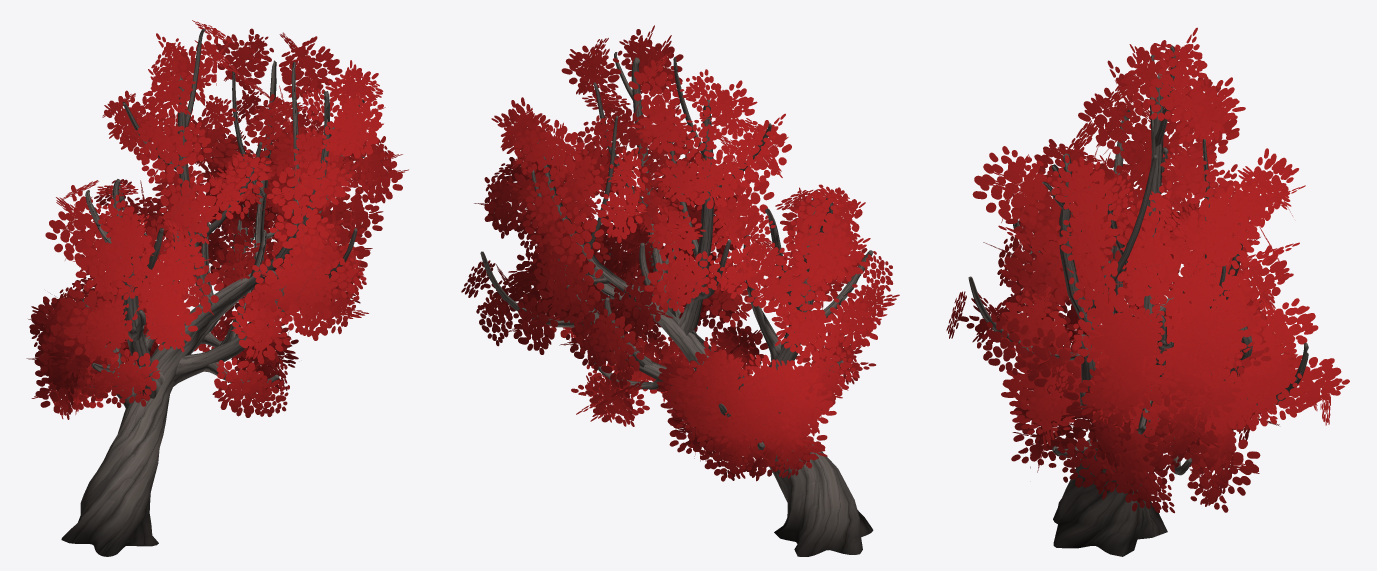
File: twistedtree_1_lod1.glb
The picture shows the model from 3 angles, left to right: view 1: azimuth 30°, elevation 25°; view 2: azimuth 150°, elevation 25°; view 3: azimuth 270°, elevation 25°; orthographic projection. The views are drawn at different scales.
Visible parts, largest first — view 1: TwistedTree_1; view 2: TwistedTree_1; view 3: TwistedTree_1.
Boxes of the visible parts, x1,y1,x2,y2 form: TwistedTree_1: (26, 20, 408, 556); TwistedTree_1: (461, 25, 899, 556); TwistedTree_1: (946, 27, 1349, 556).
Bounding box in the file's own units: 13.19 × 15.76 × 10.61.
Materials: 2 (2 with a texture image).
